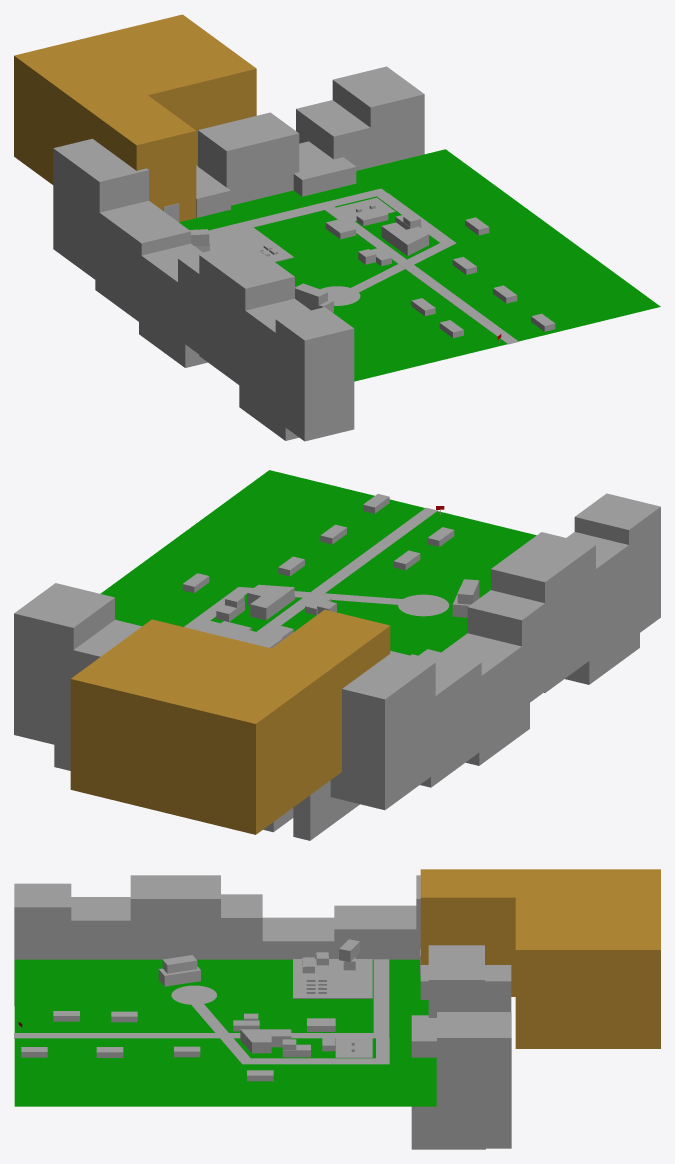
File: TR_GB_town.fbx
3 views of the same model, one above another, from view 1: azimuth 30°, elevation 25°; view 2: azimuth 150°, elevation 25°; view 3: azimuth 270°, elevation 25° (orthographic). The views are drawn at different scales.
Parts seen in each view (by area): view 1: GRES, Mines, pCube29, pCube13, pCube12, pCube15, pCube18, pCube11, pCube9, pCube28, pCube17, Road_Main (+8 smaller); view 2: Mines, GRES, pCube12, pCube18, pCube13, pCube9, pCube29, pCube28, pCube11, pCube8, pCube17, pCube21 (+5 smaller); view 3: GRES, Mines, pCube18, pCube13, pCube28, pCube11, pCube29, pCube15, pCube8, pCube9, Road_Main, pCube7 (+9 smaller).
Boxes of the visible parts, bbox=[...] form: GRES: bbox=[179, 149, 660, 381]; Mines: bbox=[14, 14, 256, 221]; pCube29: bbox=[275, 307, 354, 441]; pCube13: bbox=[199, 243, 294, 389]; pCube12: bbox=[53, 138, 148, 282]; pCube15: bbox=[198, 112, 299, 205]; pCube18: bbox=[332, 66, 424, 167]; pCube11: bbox=[95, 200, 190, 321]; pCube9: bbox=[139, 243, 207, 367]; pCube28: bbox=[239, 298, 310, 440]; pCube17: bbox=[296, 100, 387, 170]; Road_Main: bbox=[208, 201, 518, 344]; Mines: bbox=[70, 609, 390, 834]; GRES: bbox=[100, 470, 536, 655]; pCube12: bbox=[330, 651, 435, 810]; pCube18: bbox=[14, 583, 114, 748]; pCube13: bbox=[491, 532, 595, 692]; pCube9: bbox=[441, 633, 529, 765]; pCube29: bbox=[574, 493, 660, 640]; pCube28: bbox=[565, 532, 639, 684]; pCube11: bbox=[416, 649, 481, 787]; pCube8: bbox=[467, 590, 544, 702]; pCube17: bbox=[54, 619, 141, 770]; pCube21: bbox=[293, 780, 359, 840]; GRES: bbox=[14, 959, 436, 1106]; Mines: bbox=[420, 869, 660, 1048]; pCube18: bbox=[437, 1012, 511, 1146]; pCube13: bbox=[130, 875, 220, 959]; pCube28: bbox=[52, 897, 142, 959]; pCube11: bbox=[334, 905, 420, 959]; pCube29: bbox=[14, 883, 71, 1005]; pCube15: bbox=[428, 945, 484, 1017]; pCube8: bbox=[206, 894, 262, 959]; pCube9: bbox=[248, 917, 338, 959]; Road_Main: bbox=[14, 959, 389, 1038]; pCube7: bbox=[293, 959, 372, 998].
Bounding box in the file's own units: 44715 × 21718 × 71693.
